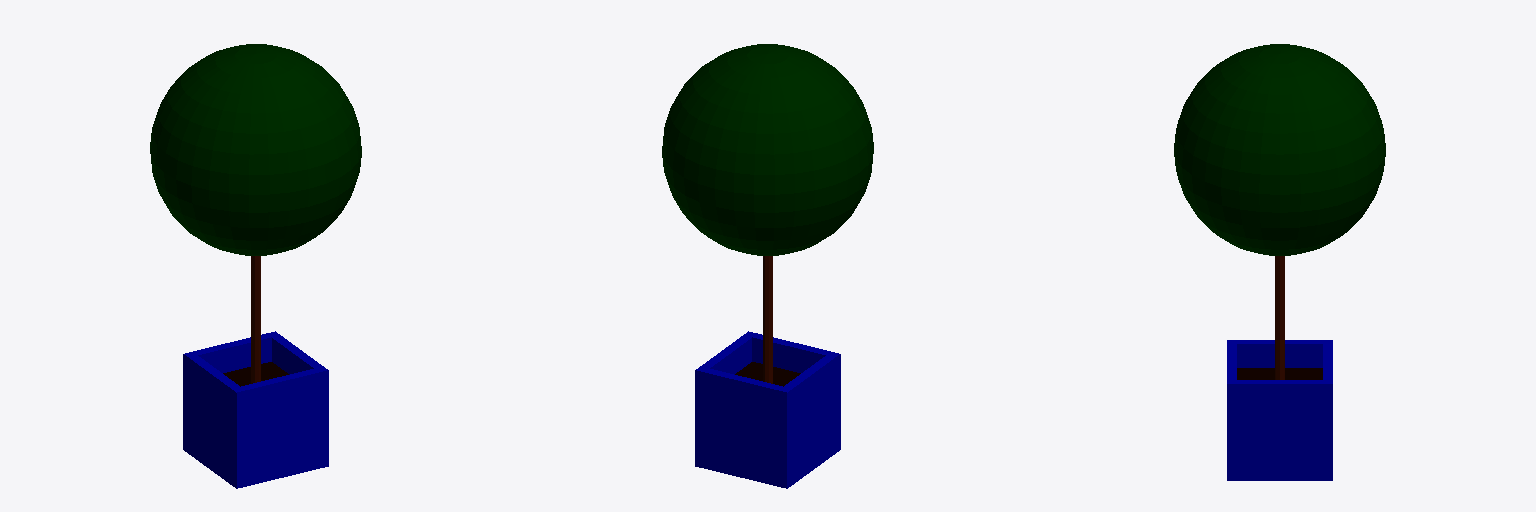
File: tree.obj
3 renders of one model, left to right at view 1: azimuth 30°, elevation 25°; view 2: azimuth 150°, elevation 25°; view 3: azimuth 270°, elevation 25°, orthographic.
Parts seen in each view (by area): view 1: Leaves_Sphere, Pot_Cube, Trunk_Cylinder; view 2: Leaves_Sphere, Pot_Cube, Trunk_Cylinder; view 3: Leaves_Sphere, Pot_Cube, Trunk_Cylinder.
Boxes of the visible parts, <box> form: Leaves_Sphere: <box>150,44,361,255</box>; Pot_Cube: <box>183,331,328,488</box>; Trunk_Cylinder: <box>251,256,260,383</box>; Leaves_Sphere: <box>662,44,873,255</box>; Pot_Cube: <box>695,331,840,488</box>; Trunk_Cylinder: <box>763,256,772,383</box>; Leaves_Sphere: <box>1174,44,1385,255</box>; Pot_Cube: <box>1227,340,1332,480</box>; Trunk_Cylinder: <box>1275,256,1284,379</box>.
Bounding box in the file's own units: 4 × 8.4 × 4.